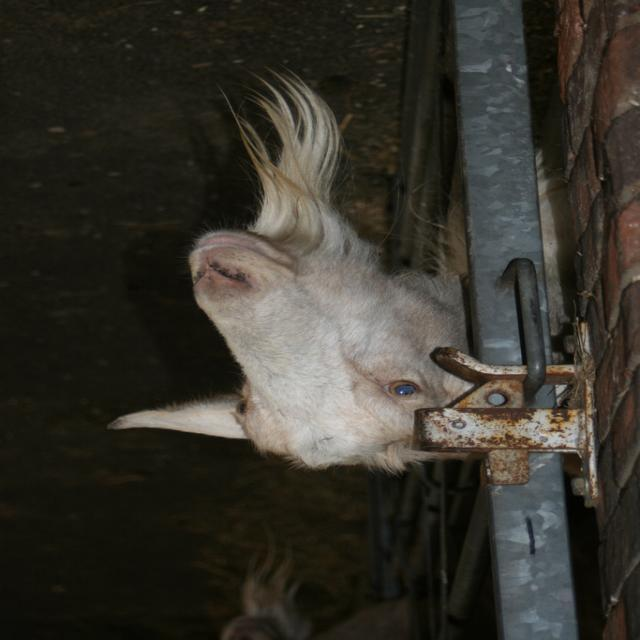Goat: (107, 63, 580, 478)
